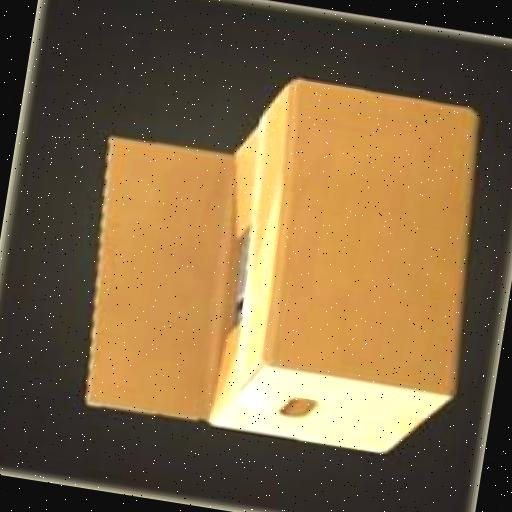cardboard: (61, 44, 497, 458)
